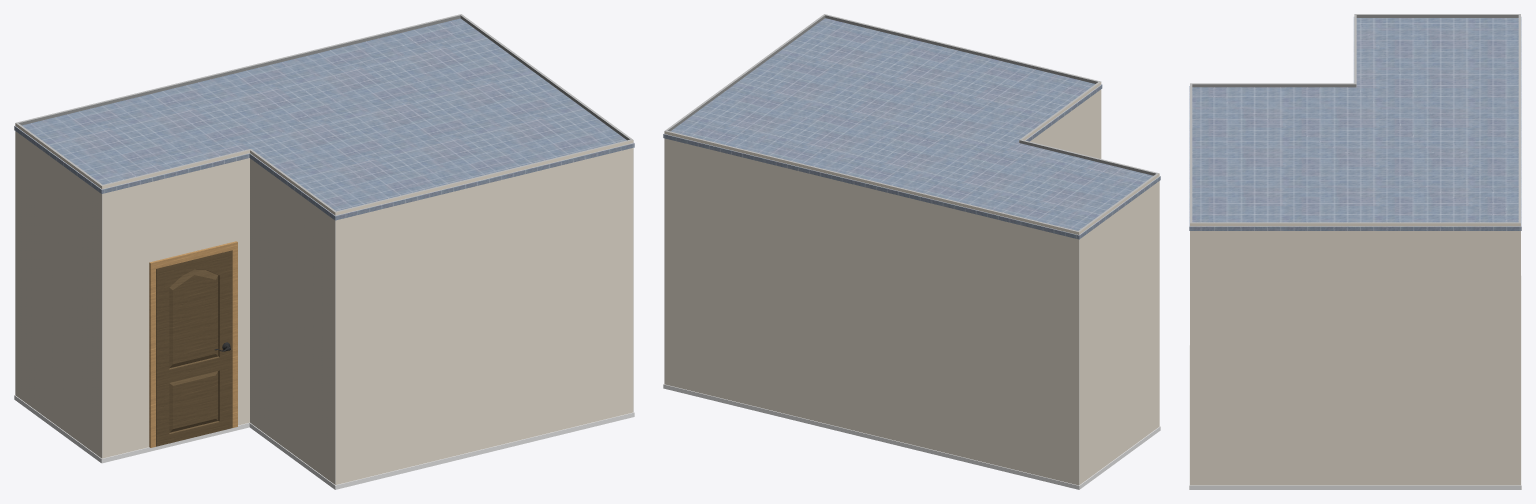
File: ProcTHOR-Train-21.glb
The picture shows the model from 3 angles, left to right: view 1: azimuth 30°, elevation 25°; view 2: azimuth 150°, elevation 25°; view 3: azimuth 270°, elevation 25°; orthographic projection. The views are drawn at different scales.
Visible parts, largest first — view 1: WallInside#wall|exterior|1.77|3.54|5.30|3.54, Ceiling#room|2|c, WallInside#wall|exterior|5.30|1.77|7.07|1.77, WallInside#wall|exterior|7.07|0.00|7.07|1.77, WallInside#wall|exterior|5.30|1.77|5.30|3.54, Doorway_6, Floor#room|2|f, WallInside#wall|2|1.77|0.00|7.07|0.00, WallInside#wall|2|1.77|0.00|1.77|3.54; view 2: WallInside#wall|exterior|1.77|0.00|7.07|0.00, Ceiling#room|2|c, WallInside#wall|exterior|7.07|0.00|7.07|1.77, WallInside#wall|exterior|5.30|1.77|5.30|3.54, Floor#room|2|f, WallInside#wall|2|1.77|3.54|5.30|3.54, WallInside#wall|2|1.77|0.00|1.77|3.54, WallInside#wall|2|5.30|1.77|7.07|1.77; view 3: WallInside#wall|exterior|1.77|0.00|1.77|3.54, Ceiling#room|2|c, Floor#room|2|f, WallInside#wall|2|5.30|1.77|5.30|3.54, WallInside#wall|2|7.07|0.00|7.07|1.77, WallInside#wall|2|1.77|0.00|7.07|0.00.
Boxes of the visible parts, x1,y1,x2,y2 form: WallInside#wall|exterior|1.77|3.54|5.30|3.54: [335, 140, 633, 484]; Ceiling#room|2|c: [14, 18, 634, 220]; WallInside#wall|exterior|5.30|1.77|7.07|1.77: [102, 149, 250, 458]; WallInside#wall|exterior|7.07|0.00|7.07|1.77: [15, 123, 102, 458]; WallInside#wall|exterior|5.30|1.77|5.30|3.54: [249, 149, 335, 484]; Doorway_6: [149, 241, 237, 447]; Floor#room|2|f: [14, 395, 634, 489]; WallInside#wall|2|1.77|0.00|7.07|0.00: [16, 14, 461, 125]; WallInside#wall|2|1.77|0.00|1.77|3.54: [460, 14, 631, 140]; WallInside#wall|exterior|1.77|0.00|7.07|0.00: [664, 131, 1078, 485]; Ceiling#room|2|c: [663, 18, 1160, 239]; WallInside#wall|exterior|7.07|0.00|7.07|1.77: [1078, 173, 1159, 485]; WallInside#wall|exterior|5.30|1.77|5.30|3.54: [1021, 81, 1101, 158]; Floor#room|2|f: [663, 384, 1160, 489]; WallInside#wall|2|1.77|3.54|5.30|3.54: [824, 14, 1099, 83]; WallInside#wall|2|1.77|0.00|1.77|3.54: [666, 14, 825, 131]; WallInside#wall|2|5.30|1.77|7.07|1.77: [1019, 140, 1157, 175]; WallInside#wall|exterior|1.77|0.00|1.77|3.54: [1190, 223, 1520, 485]; Ceiling#room|2|c: [1189, 16, 1521, 230]; Floor#room|2|f: [1189, 275, 1521, 489]; WallInside#wall|2|5.30|1.77|5.30|3.54: [1190, 84, 1356, 87]; WallInside#wall|2|7.07|0.00|7.07|1.77: [1354, 14, 1520, 17]; WallInside#wall|2|1.77|0.00|7.07|0.00: [1518, 14, 1519, 223].
Size of what is drawn, in the model's own units: 5.34 by 3.16 by 3.58.
82 materials, 31 textured.
